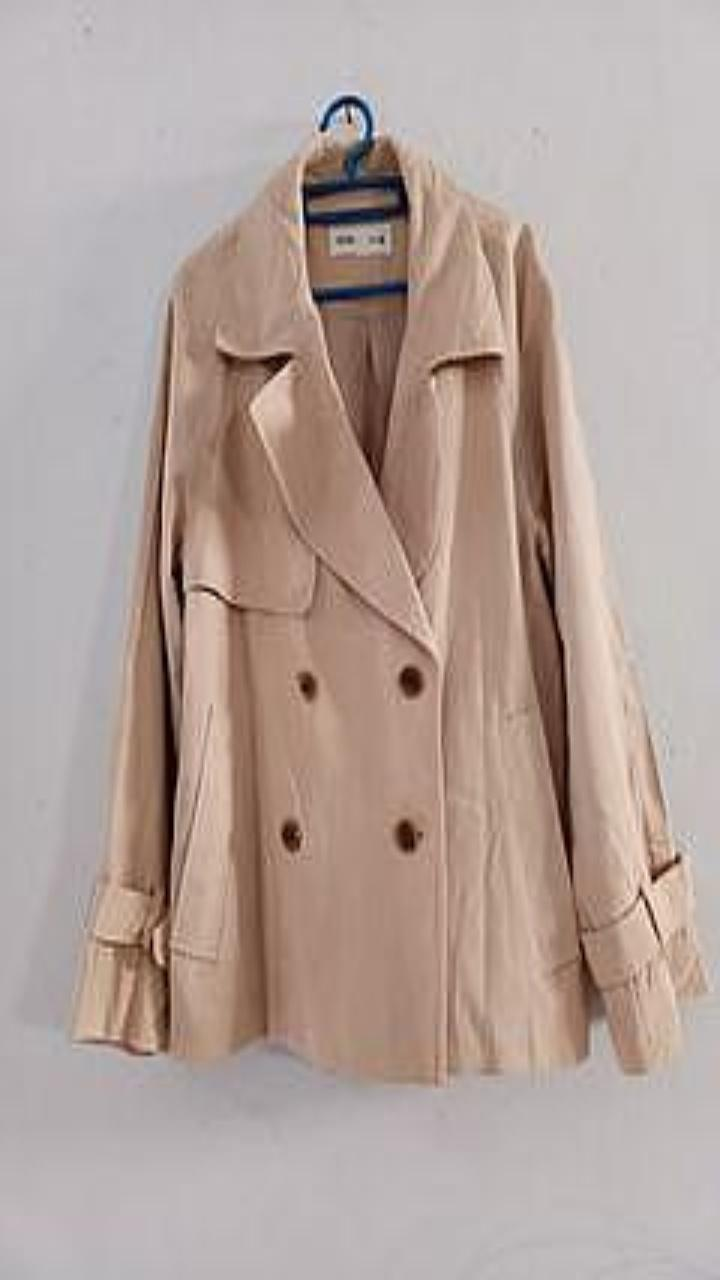Coat: (72, 131, 709, 1082)
